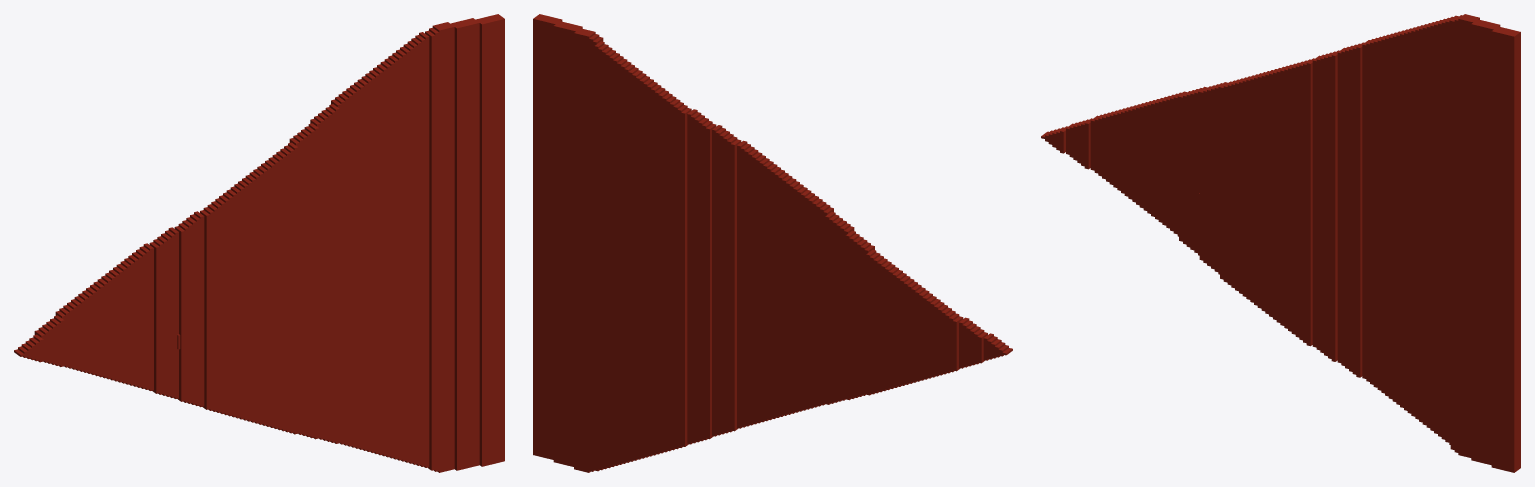
File: flag_full0-0.obj
3 views of the same model, side by side, from view 1: azimuth 30°, elevation 25°; view 2: azimuth 150°, elevation 25°; view 3: azimuth 330°, elevation 25° (orthographic).
Bounding box in the file's own units: 25.2 × 22.1 × 1.2.
1 material, 1 textured.
